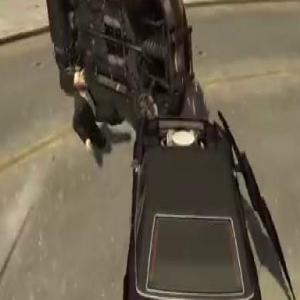critical: (42, 0, 200, 144)
